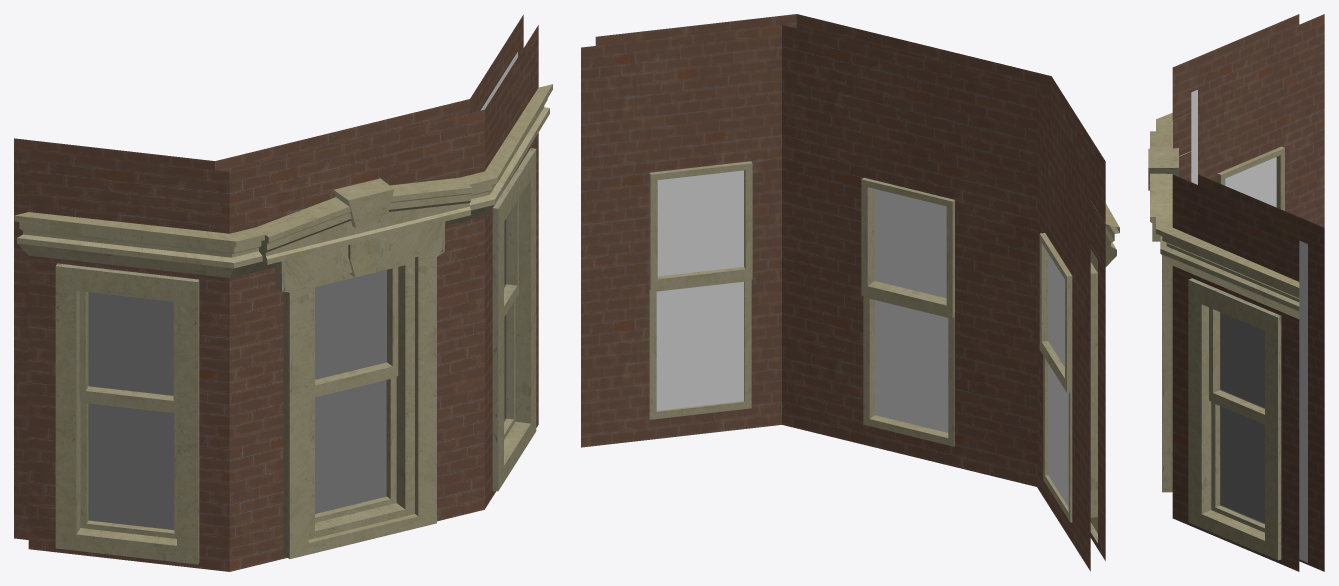
The model's file is Brick_BayWindow.gltf.
The picture shows the model from 3 angles, left to right: view 1: azimuth 30°, elevation 25°; view 2: azimuth 150°, elevation 25°; view 3: azimuth 270°, elevation 25°; orthographic projection. The views are drawn at different scales.
Visible parts, largest first — view 1: Brick_BayWindow; view 2: Brick_BayWindow; view 3: Brick_BayWindow.
Part boxes in pixels (x1=…): Brick_BayWindow: x1=14, y1=14, x2=552, y2=571; Brick_BayWindow: x1=581, y1=14, x2=1119, y2=571; Brick_BayWindow: x1=1148, y1=14, x2=1324, y2=571.
Size of the model in its own units: 4.23 by 3 by 1.39.
Materials: 6 (4 with a texture image).
